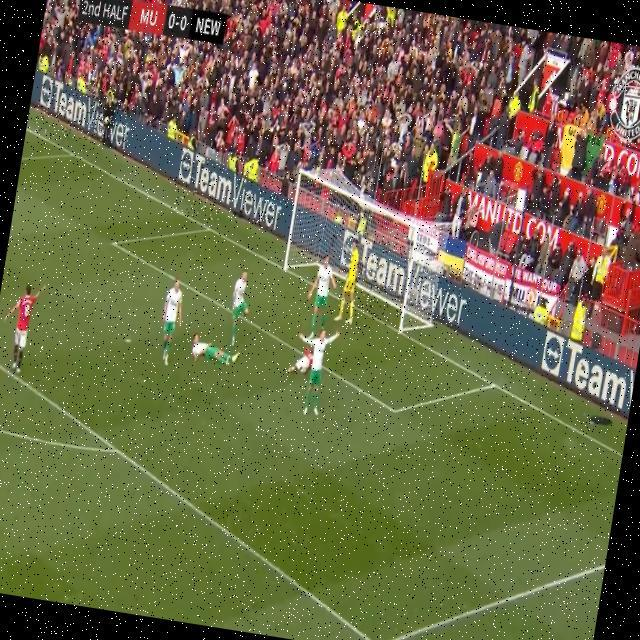TeamViewer: (333, 229, 475, 332), (173, 149, 289, 231), (536, 331, 640, 414), (34, 76, 136, 151)
